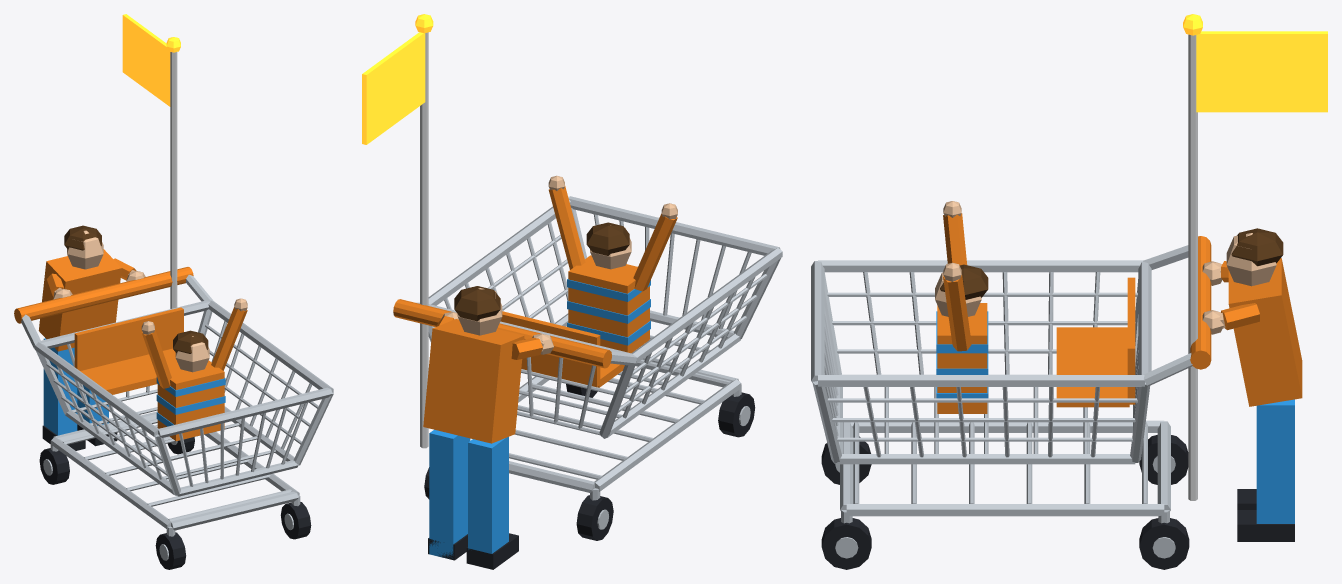
Rendered from cart-rival-twins.glb.
The picture shows the model from 3 angles, left to right: view 1: azimuth 30°, elevation 25°; view 2: azimuth 150°, elevation 25°; view 3: azimuth 270°, elevation 25°; orthographic projection. The views are drawn at different scales.
Visible parts, largest first — view 1: cart-rival-twins; view 2: cart-rival-twins; view 3: cart-rival-twins.
Boxes of the visible parts, left/top/right/bottom form: cart-rival-twins: left=14, top=14, right=333, bottom=569; cart-rival-twins: left=362, top=14, right=782, bottom=569; cart-rival-twins: left=811, top=14, right=1327, bottom=569.
Size of the model in its own units: 1.47 by 3.18 by 2.68.
